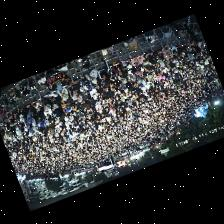person: (97, 55, 109, 79), (42, 98, 51, 119), (130, 54, 143, 68), (143, 50, 157, 63), (67, 80, 79, 95), (138, 78, 149, 94), (45, 91, 59, 103), (111, 60, 122, 75), (73, 102, 82, 120), (61, 91, 71, 107), (84, 69, 96, 82), (79, 75, 90, 88), (162, 49, 173, 62), (52, 103, 59, 122), (142, 65, 155, 75), (109, 70, 117, 86), (30, 99, 41, 110), (57, 87, 67, 99), (24, 111, 31, 128), (88, 85, 97, 98), (18, 107, 28, 118), (79, 102, 89, 113), (86, 95, 95, 107), (100, 79, 109, 91), (169, 43, 178, 55), (79, 81, 87, 94), (127, 67, 135, 80), (91, 77, 100, 88), (27, 105, 36, 116), (42, 116, 49, 130), (176, 44, 186, 53), (96, 87, 105, 97), (161, 57, 169, 68), (18, 113, 23, 130), (157, 58, 164, 70), (94, 100, 101, 112), (116, 74, 125, 83), (122, 59, 131, 68), (105, 91, 113, 101), (35, 121, 43, 131), (71, 93, 81, 101), (7, 114, 14, 125), (47, 122, 53, 134), (196, 40, 204, 49), (2, 118, 8, 130), (185, 39, 190, 50), (15, 127, 20, 138), (81, 94, 86, 104)
